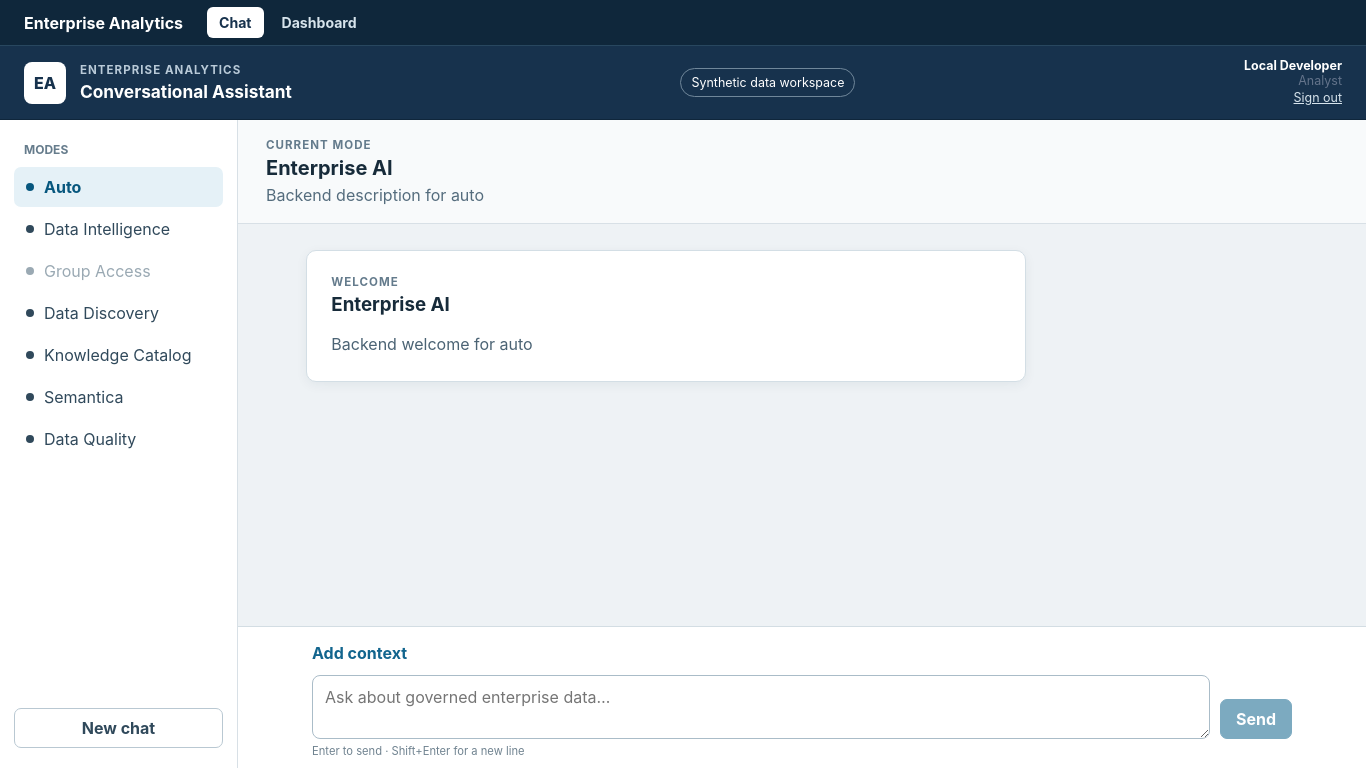
Scenario: One UI › safe backend error is shown without a raw stack trace
Expected: the text "Backend welcome for auto" is shown, [331,334,533,354]
Type "Analyze claims" into the text box named "Message".
click(761, 707); type("Analyze claims")  # box [312,675,1210,739]
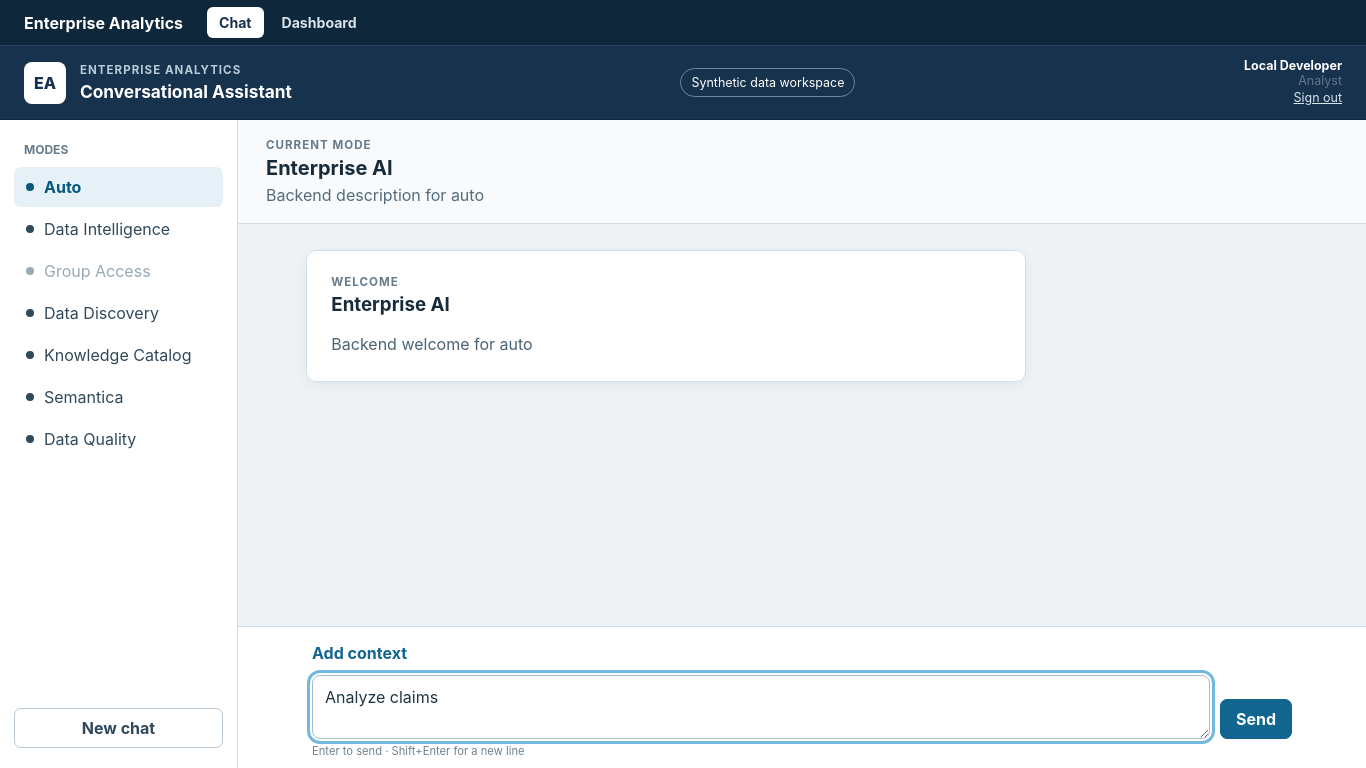
Click the button "Send".
click(1256, 719)  # box [1220,699,1292,739]
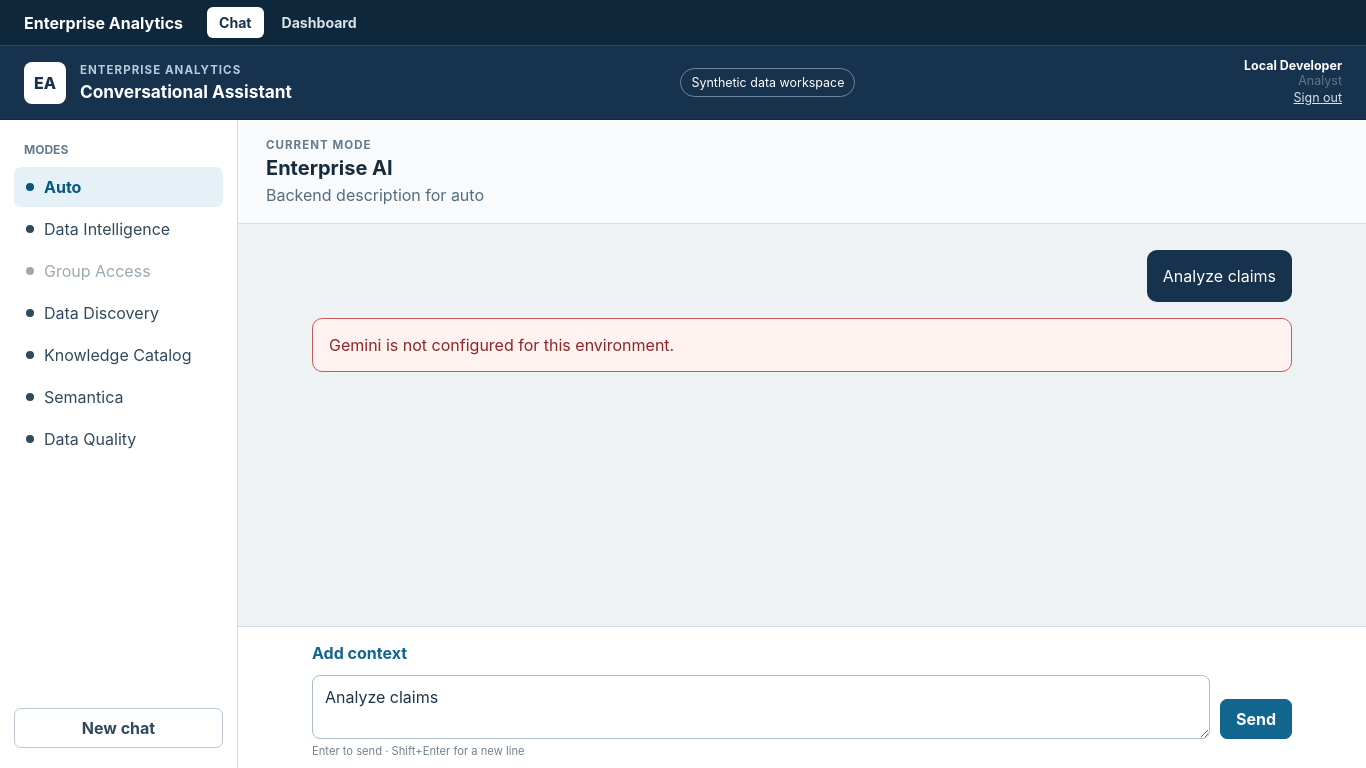
Now the message shows "Gemini is not configured", box [329,335,674,355]
